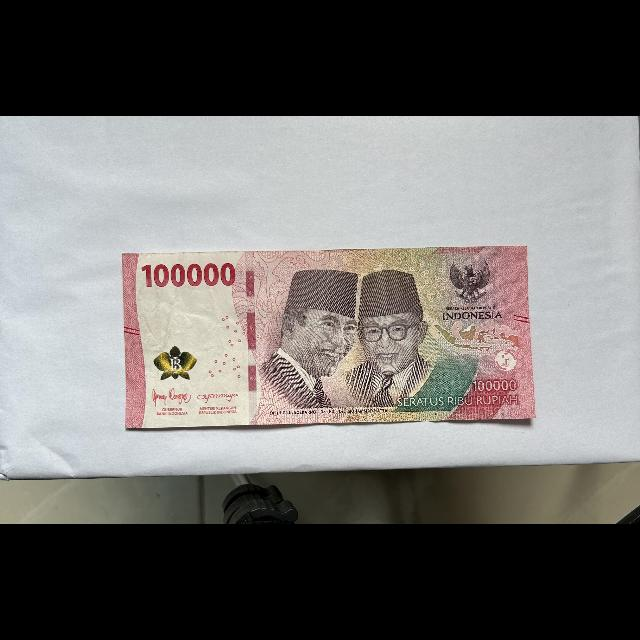Asli-100k: (120, 243, 538, 432)
Tinta-Asli-100k: (153, 344, 198, 382)
